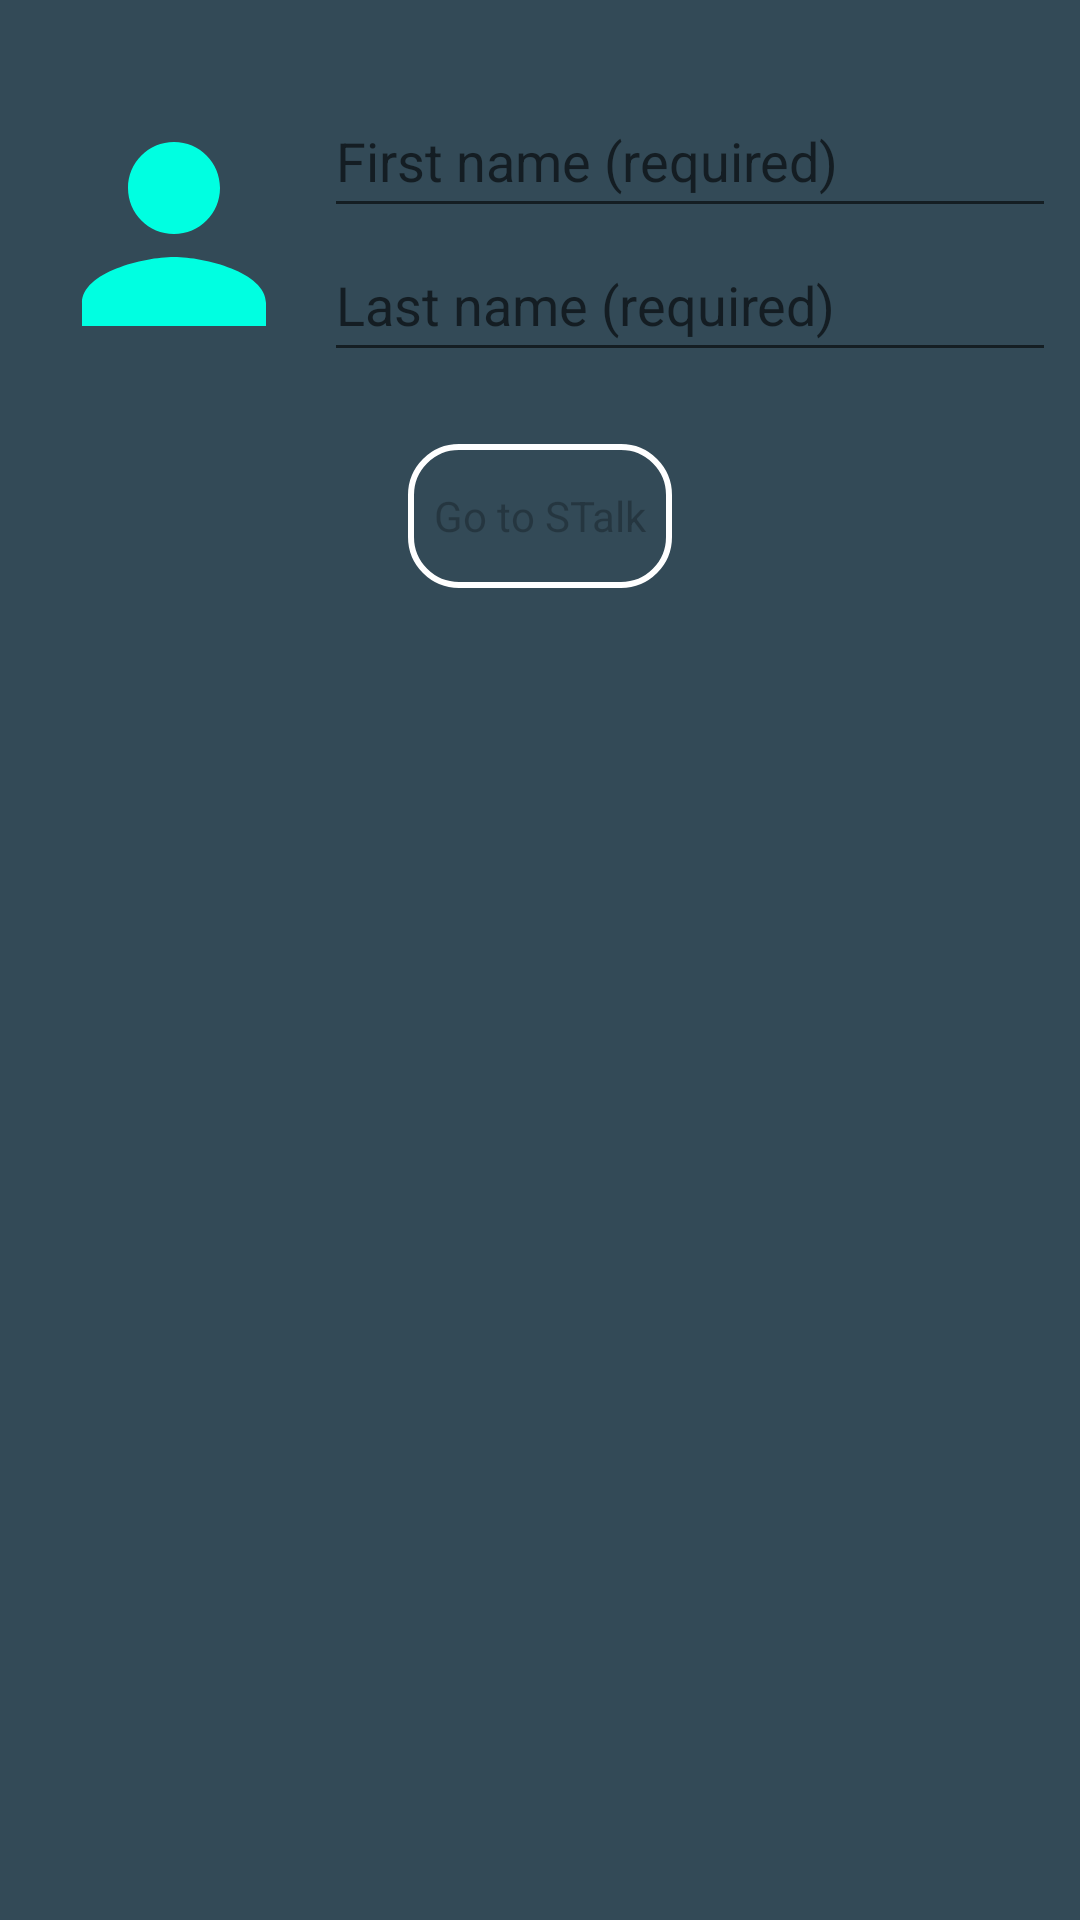

Named icons in this screenshot (1080 × 1920) and their bounding boxes, bbox=[x1, y1, x2, y2]:
person: bbox=[82, 142, 266, 326]
